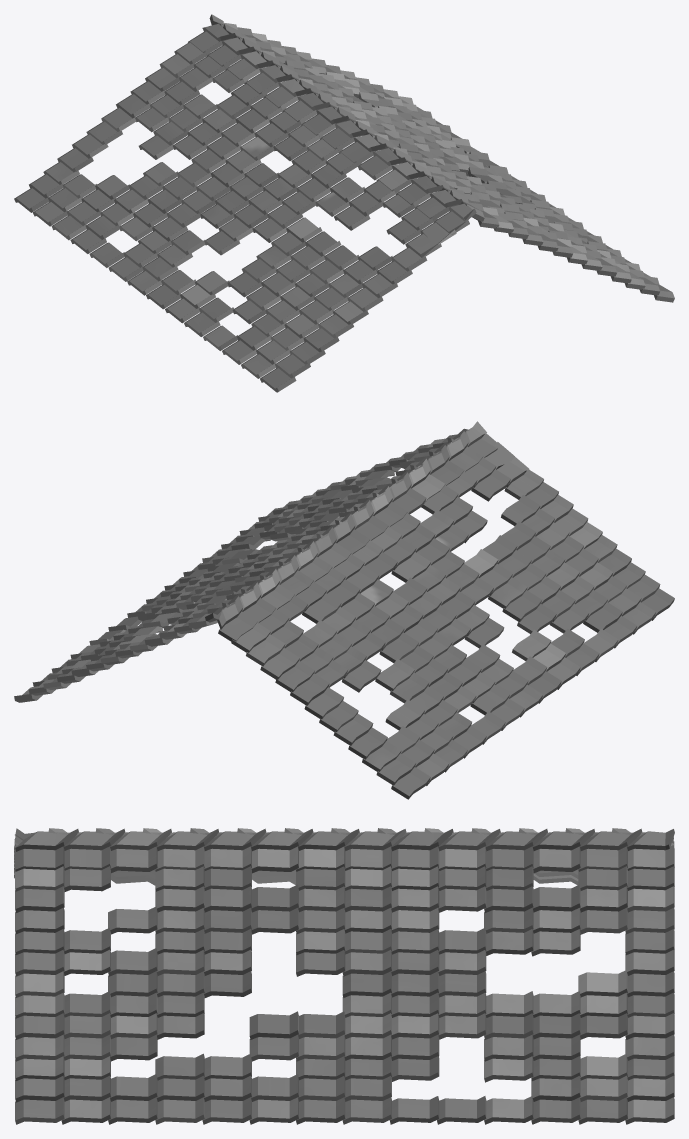
The model's file is TelhadoDestruidoVer2.fbx.
3 renders of one model, top to bottom at view 1: azimuth 30°, elevation 25°; view 2: azimuth 150°, elevation 25°; view 3: azimuth 270°, elevation 25°, orthographic. The views are drawn at different scales.
Visible parts, largest first — view 1: TelhadoQuebradoVer2; view 2: TelhadoQuebradoVer2; view 3: TelhadoQuebradoVer2.
Part boxes in pixels (box(x1,y1,x2,y2)): TelhadoQuebradoVer2: box(14, 14, 674, 392); TelhadoQuebradoVer2: box(14, 421, 674, 799); TelhadoQuebradoVer2: box(14, 828, 674, 1124).
Bounding box in the file's own units: 960 × 327 × 1107.
